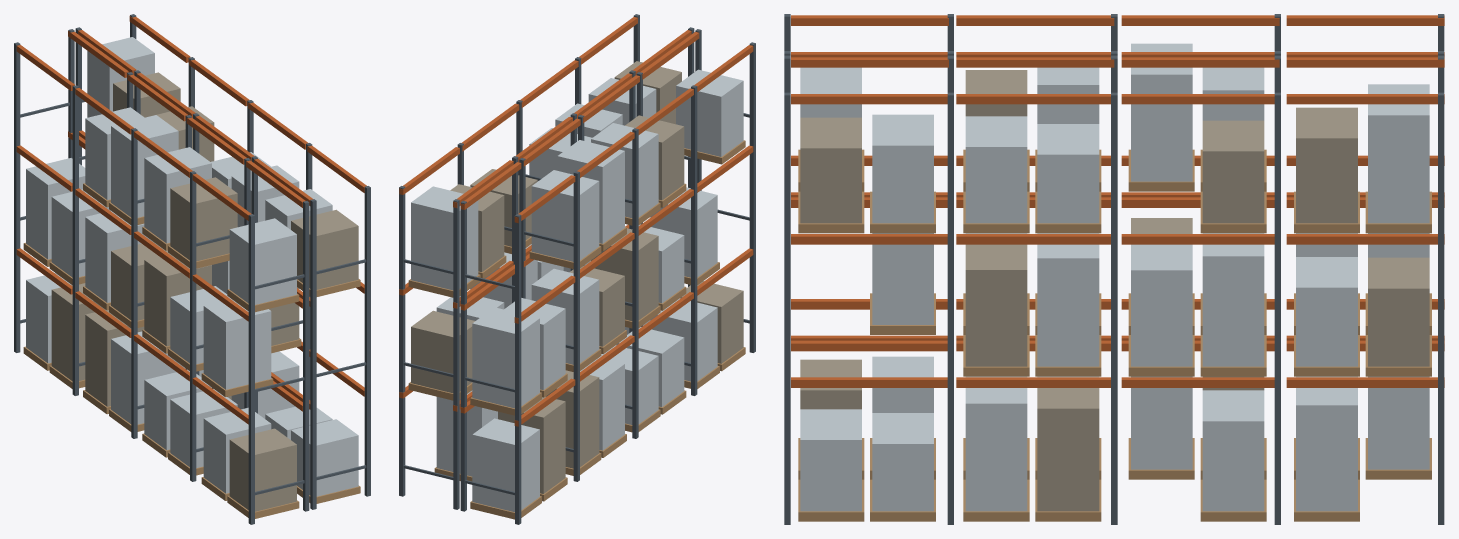
Rendered from prop_racking_coldstore.glb.
3 views of the same model, side by side, from view 1: azimuth 30°, elevation 25°; view 2: azimuth 150°, elevation 25°; view 3: azimuth 270°, elevation 25° (orthographic). The views are drawn at different scales.
Parts seen in each view (by area): view 1: Racking; view 2: Racking; view 3: Racking.
Boxes of the visible parts, box(x1,y1,x2,y2) form: Racking: box(14, 14, 370, 524); Racking: box(399, 14, 755, 524); Racking: box(784, 14, 1444, 524).
Size of what is drawn, in the model's own units: 2.68 by 6.59 by 9.18.
